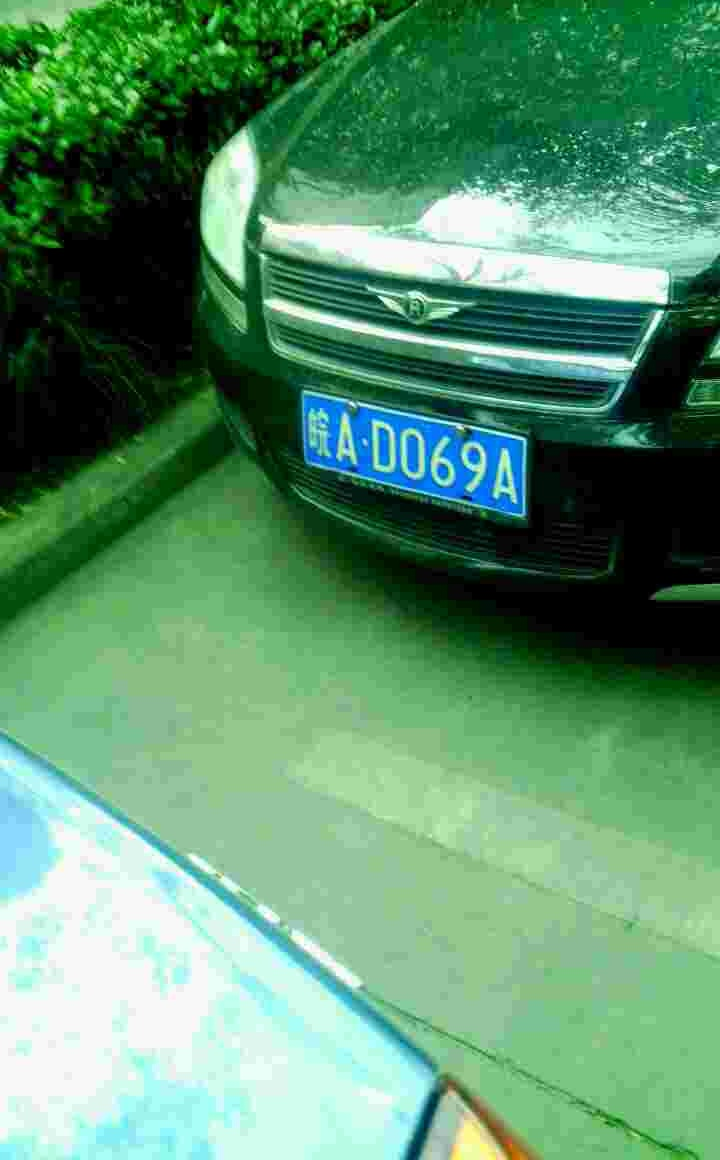license_plate: (298, 390, 530, 523)
